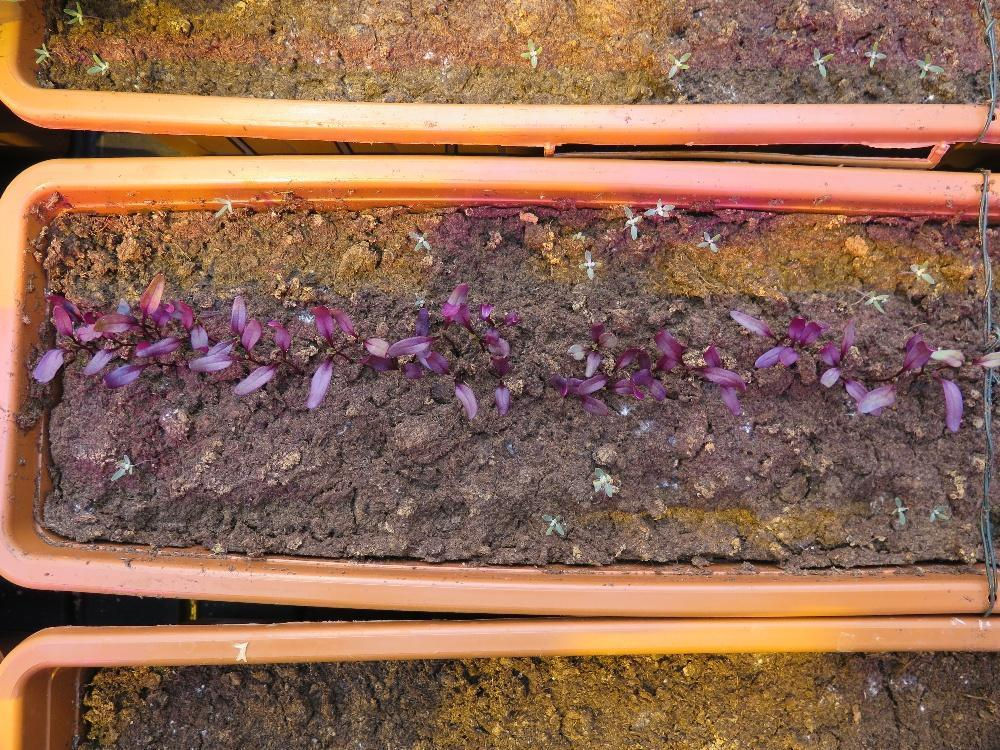weed: (906, 255, 935, 285), (862, 286, 890, 314), (591, 464, 613, 498), (576, 247, 600, 278), (109, 450, 133, 481), (643, 194, 675, 217), (621, 204, 641, 240), (695, 227, 720, 253), (407, 227, 430, 252), (540, 512, 563, 537), (211, 191, 232, 218), (889, 494, 907, 525), (927, 501, 949, 523), (569, 227, 584, 245)
